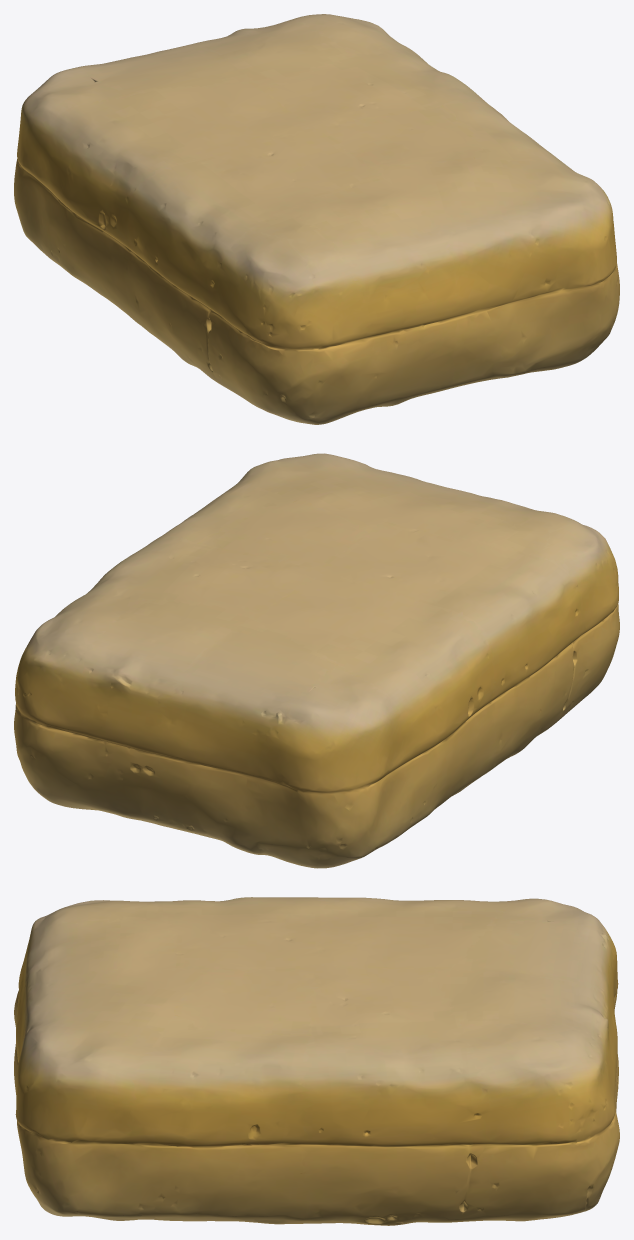
The model's file is combination-hydro-grout-sponge.glb.
3 renders of one model, top to bottom at view 1: azimuth 30°, elevation 25°; view 2: azimuth 150°, elevation 25°; view 3: azimuth 270°, elevation 25°, orthographic. The views are drawn at different scales.
Visible parts, largest first — view 1: tripo_node_8a9b2a34-c0b5-4716-9425-61cbcd9c39a0; view 2: tripo_node_8a9b2a34-c0b5-4716-9425-61cbcd9c39a0; view 3: tripo_node_8a9b2a34-c0b5-4716-9425-61cbcd9c39a0.
Boxes of the visible parts, <box> form: tripo_node_8a9b2a34-c0b5-4716-9425-61cbcd9c39a0: <box>14,14,619,424</box>; tripo_node_8a9b2a34-c0b5-4716-9425-61cbcd9c39a0: <box>14,453,619,868</box>; tripo_node_8a9b2a34-c0b5-4716-9425-61cbcd9c39a0: <box>14,897,619,1225</box>.
Bounding box in the file's own units: 0.7384 × 0.3374 × 0.9999.
1 material, 1 textured.
